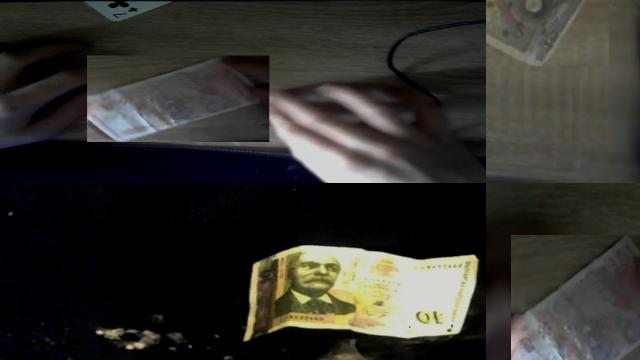10leva: (267, 251, 357, 325), (409, 302, 450, 327)
5leva: (87, 55, 269, 142), (514, 235, 640, 360)
